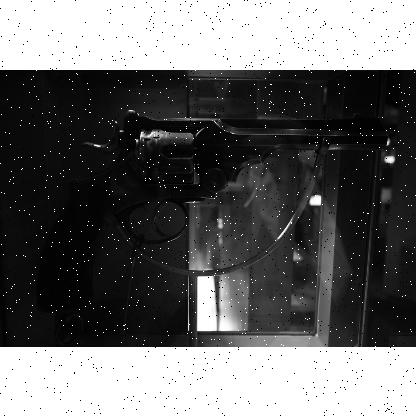gun: (35, 108, 386, 312)
